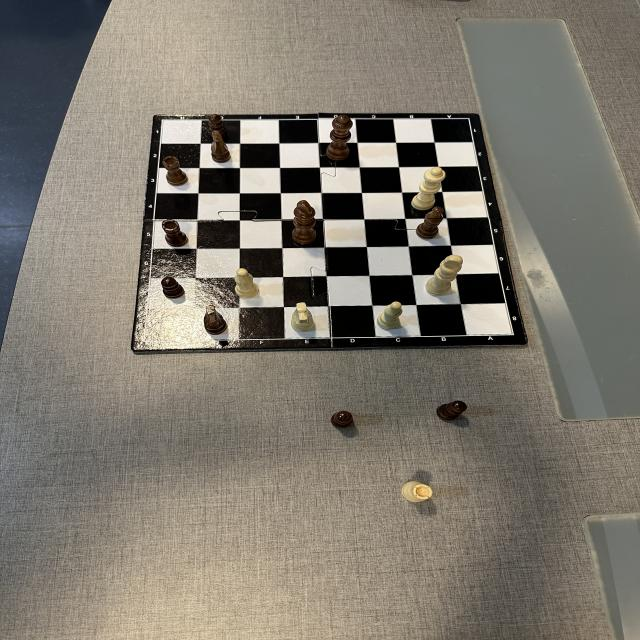Black-Bishop: (416, 206, 444, 240)
Black-King: (293, 200, 315, 245)
Black-Knight: (203, 304, 226, 336), (212, 131, 231, 164)
Black-Pawn: (435, 400, 467, 420), (161, 276, 185, 298), (330, 410, 355, 431), (208, 114, 226, 138)
Black-Queen: (327, 115, 352, 160)
Black-Rook: (162, 156, 189, 187), (162, 219, 188, 247)
White-Bishop: (235, 268, 259, 299), (377, 302, 403, 330)
White-King: (426, 255, 464, 297)
White-Knight: (292, 302, 315, 332)
White-Queen: (412, 167, 446, 211)
White-Rook: (402, 481, 432, 502)
